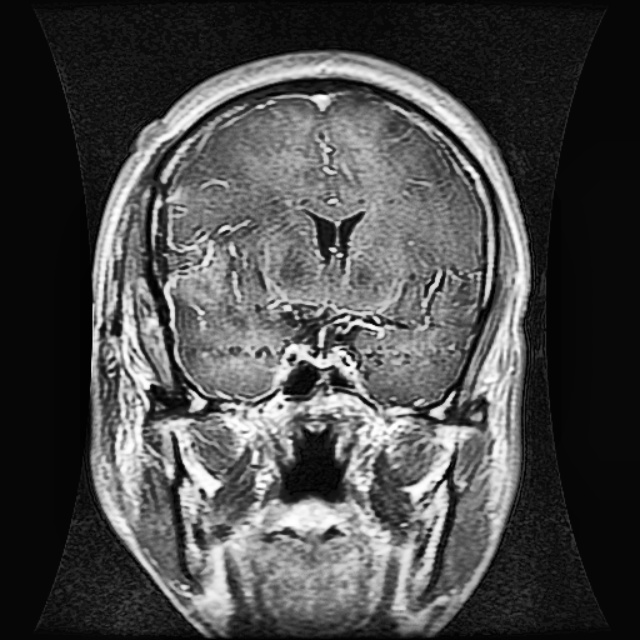Meningioma: (153, 174, 249, 310)
